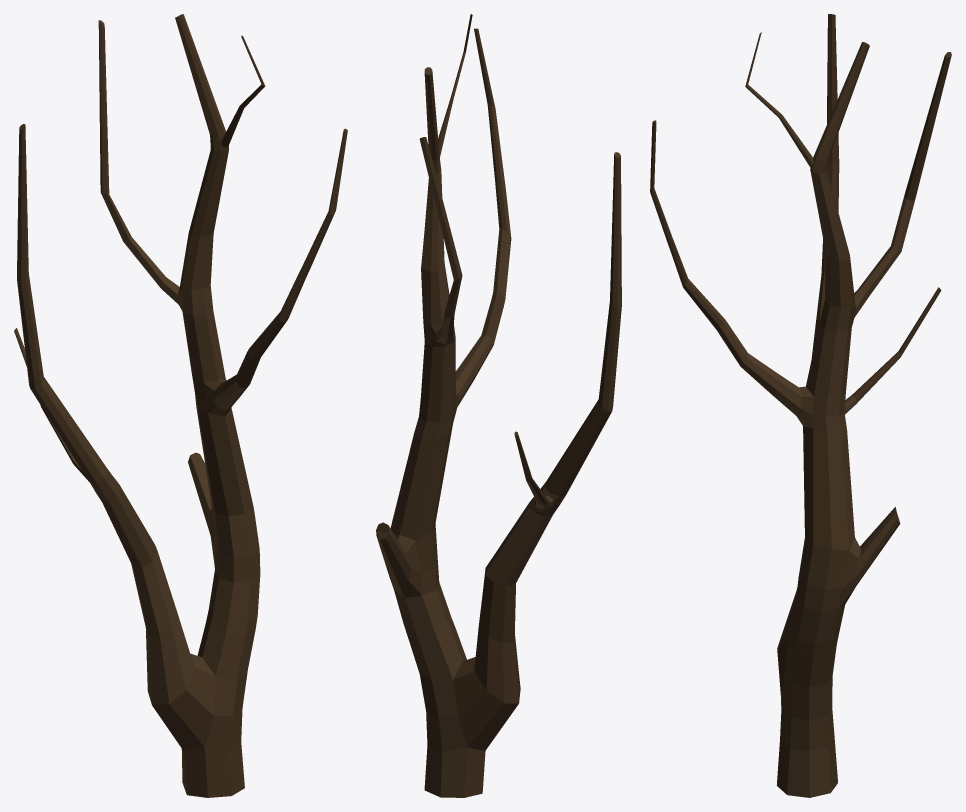
The model's file is DeadTree2.gltf.
3 renders of one model, left to right at view 1: azimuth 30°, elevation 25°; view 2: azimuth 150°, elevation 25°; view 3: azimuth 270°, elevation 25°, orthographic.
Visible parts, largest first — view 1: DeadTree2; view 2: DeadTree2; view 3: DeadTree2.
Boxes of the visible parts, x1=… form: DeadTree2: x1=14, y1=14, x2=347, y2=797; DeadTree2: x1=376, y1=14, x2=621, y2=797; DeadTree2: x1=650, y1=14, x2=951, y2=797.
Size of the model in its own units: 0.9096 by 2.78 by 1.01.
